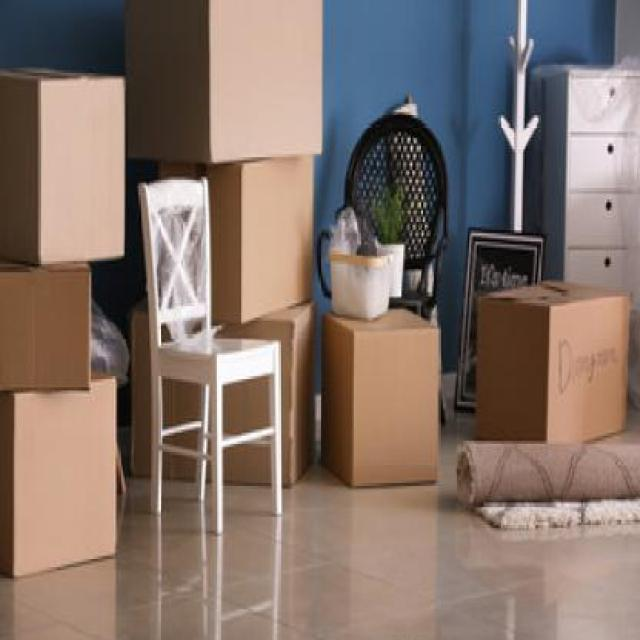box: (126, 306, 316, 498), (123, 0, 332, 167), (473, 274, 638, 478), (148, 158, 324, 326), (0, 56, 135, 270), (316, 303, 444, 512), (0, 372, 125, 582), (0, 267, 94, 394)
